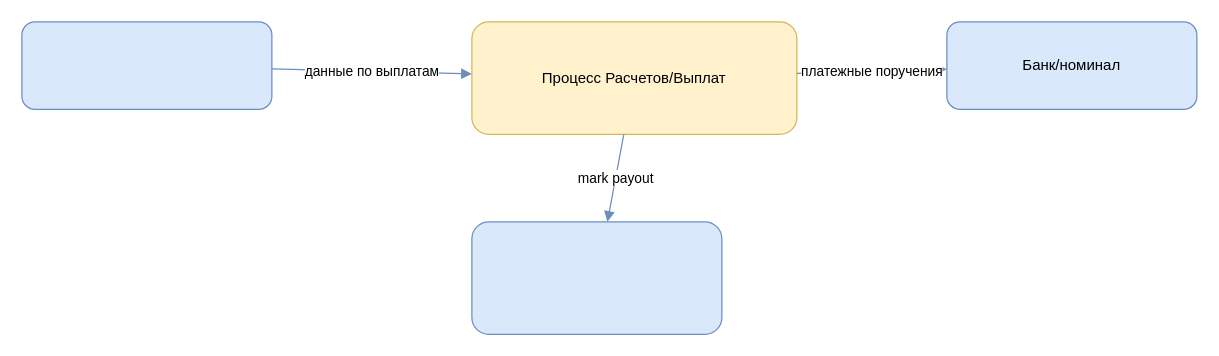
Image size: 1219x356. Some labels were removed from this diagram. Each missing label, with the centre of its shape:
"Ledger (DLT)" goes at pixel 596 277.
"Реестр держателей" goes at pixel 146 65.
